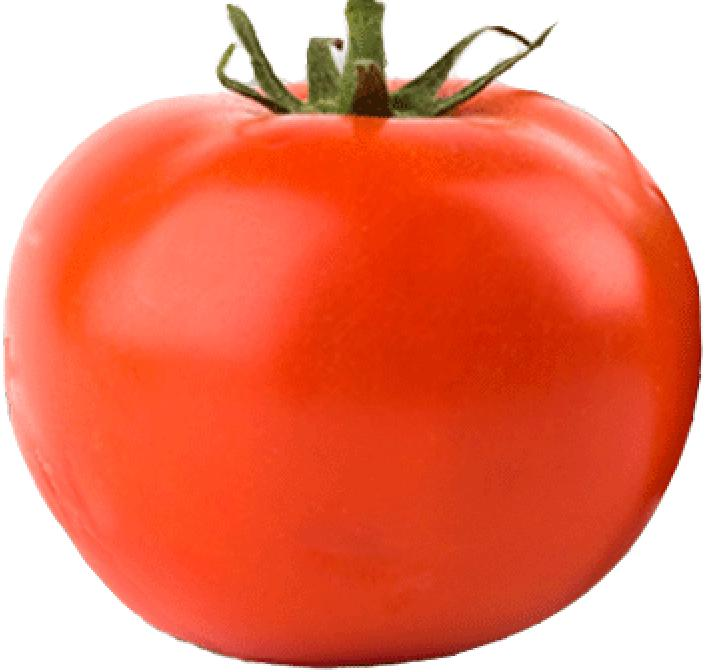tomato: (10, 81, 702, 657)
